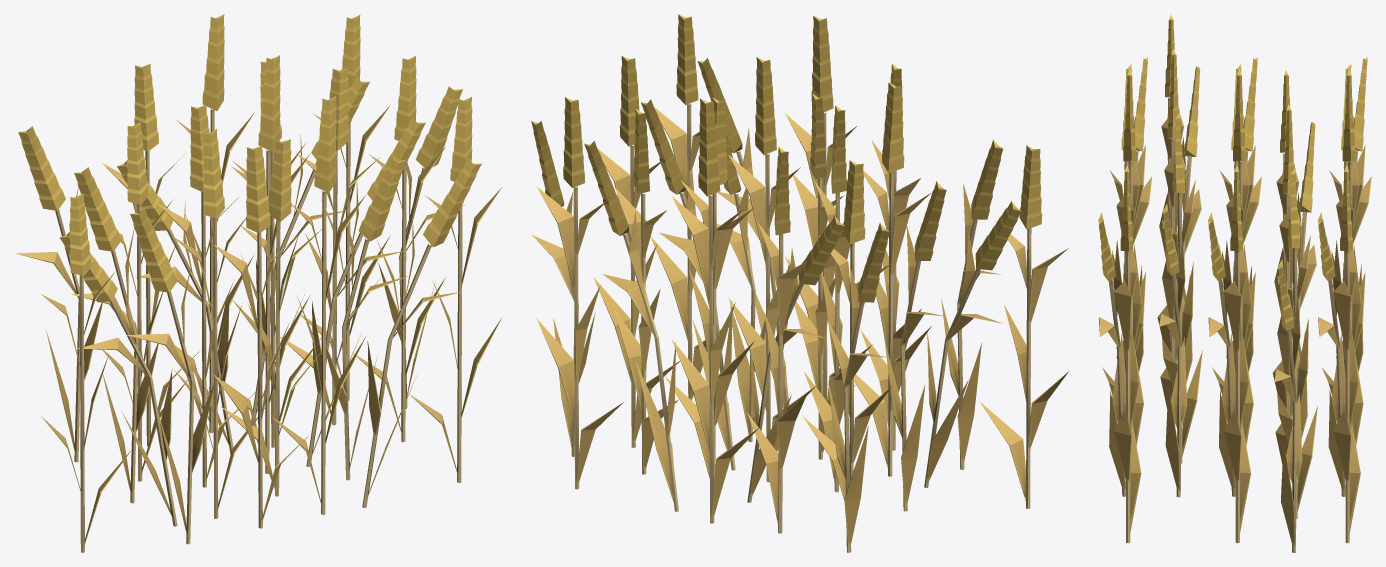
Rendered from Wheat.glb.
The picture shows the model from 3 angles, left to right: view 1: azimuth 30°, elevation 25°; view 2: azimuth 150°, elevation 25°; view 3: azimuth 270°, elevation 25°; orthographic projection. The views are drawn at different scales.
Visible parts, largest first — view 1: FieldOfWheat_mesh; view 2: FieldOfWheat_mesh; view 3: FieldOfWheat_mesh.
Boxes of the visible parts, box(x1,y1,x2,y2) form: FieldOfWheat_mesh: box(15, 14, 501, 552); FieldOfWheat_mesh: box(531, 14, 1068, 552); FieldOfWheat_mesh: box(1098, 14, 1371, 552).
Bounding box in the file's own units: 16.21 × 13.45 × 8.16.
1 material, 1 textured.
